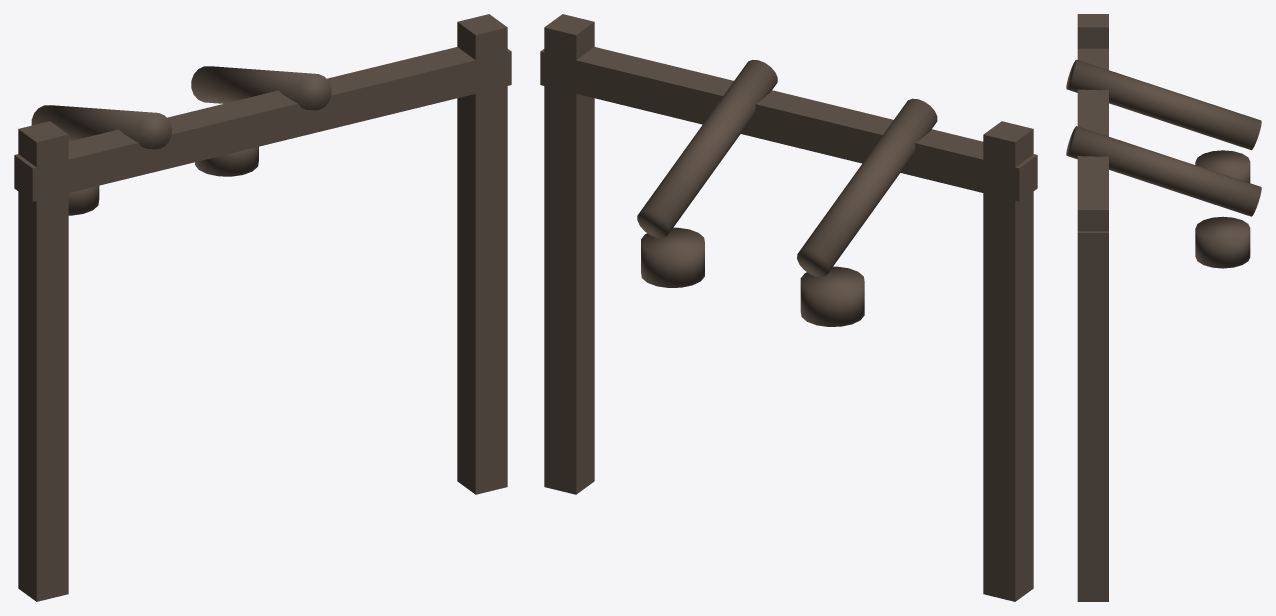
The model's file is prop_temizu_dai.glb.
3 views of the same model, side by side, from view 1: azimuth 30°, elevation 25°; view 2: azimuth 150°, elevation 25°; view 3: azimuth 270°, elevation 25° (orthographic). The views are drawn at different scales.
Visible parts, largest first — view 1: temizu_dai; view 2: temizu_dai; view 3: temizu_dai.
Boxes of the visible parts, x1,y1,x2,y2 form: temizu_dai: [14, 14, 511, 601]; temizu_dai: [540, 14, 1037, 601]; temizu_dai: [1066, 14, 1261, 601].
Bounding box in the file's own units: 1.2 × 1.1 × 0.4972.
